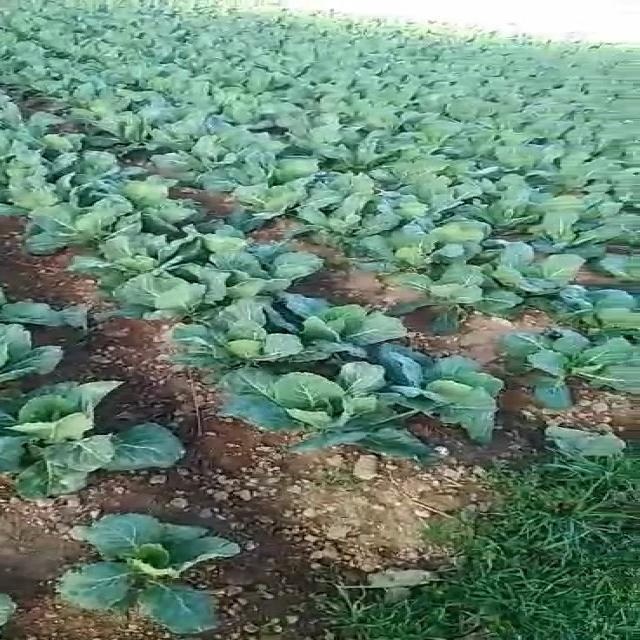Cabbage: (53, 510, 239, 630), (5, 384, 187, 494), (212, 371, 402, 456), (392, 349, 510, 447), (523, 331, 640, 406), (292, 292, 409, 360), (190, 301, 298, 364), (394, 270, 510, 328), (212, 243, 328, 289), (72, 232, 196, 268), (498, 243, 586, 292), (119, 267, 206, 315), (0, 321, 68, 382), (27, 204, 147, 236), (373, 232, 468, 268), (235, 176, 314, 217), (310, 207, 408, 236), (567, 288, 640, 324), (314, 169, 397, 200), (208, 126, 292, 155), (0, 177, 82, 206), (150, 198, 218, 232), (544, 214, 620, 244), (96, 110, 148, 152), (60, 151, 143, 176), (146, 148, 216, 176), (108, 174, 188, 198), (554, 155, 613, 184), (2, 148, 55, 177), (591, 250, 640, 281), (483, 199, 539, 226), (360, 105, 412, 134), (496, 145, 549, 172), (29, 127, 86, 152), (68, 87, 128, 110), (168, 111, 232, 132), (448, 133, 501, 157), (445, 215, 495, 240), (414, 170, 470, 192), (358, 132, 407, 157), (544, 192, 602, 212), (490, 174, 542, 196), (129, 89, 176, 113), (308, 123, 365, 142), (612, 168, 640, 205), (189, 79, 228, 105), (401, 152, 451, 172), (230, 94, 265, 120), (268, 99, 313, 119), (148, 71, 195, 90), (424, 119, 467, 139)
